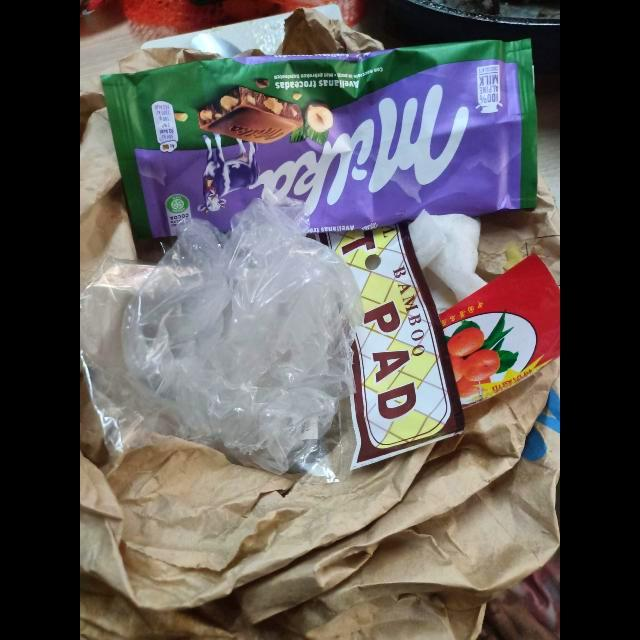food_wrapper: (100, 39, 538, 265)
paper: (80, 357, 560, 640)
plastic_bag: (80, 188, 359, 483)
